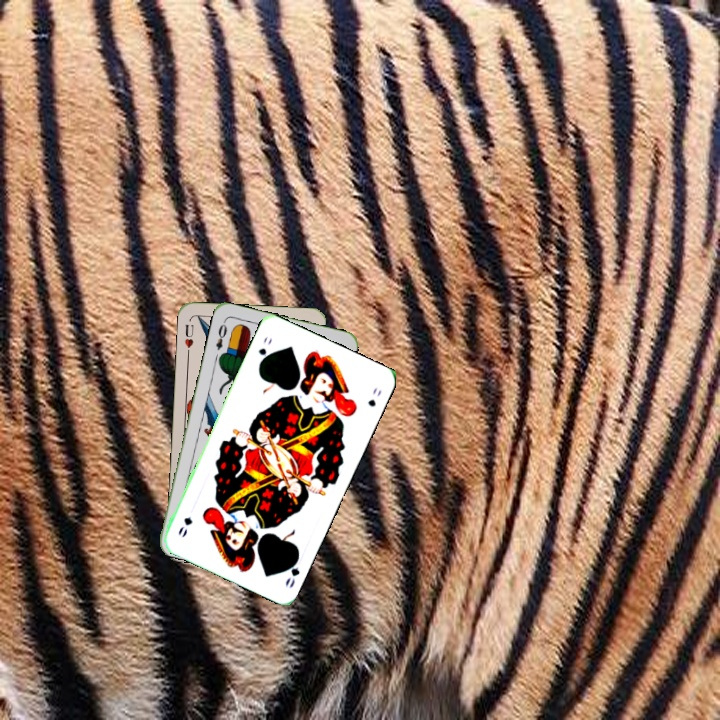EO: (212, 317, 230, 353)
GO: (281, 551, 302, 591), (254, 333, 275, 369)
HU: (181, 320, 196, 357)
